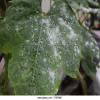Squash Powdery mildew leaf: (0, 1, 84, 97)
